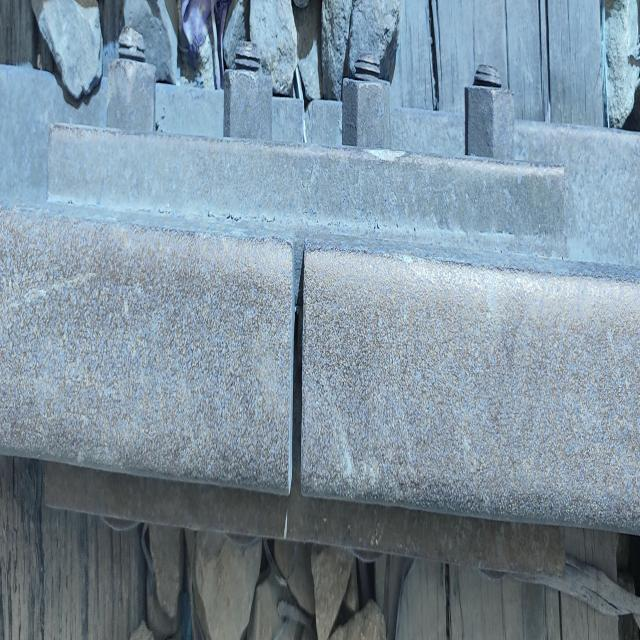Good Joint: (26, 17, 584, 602)
